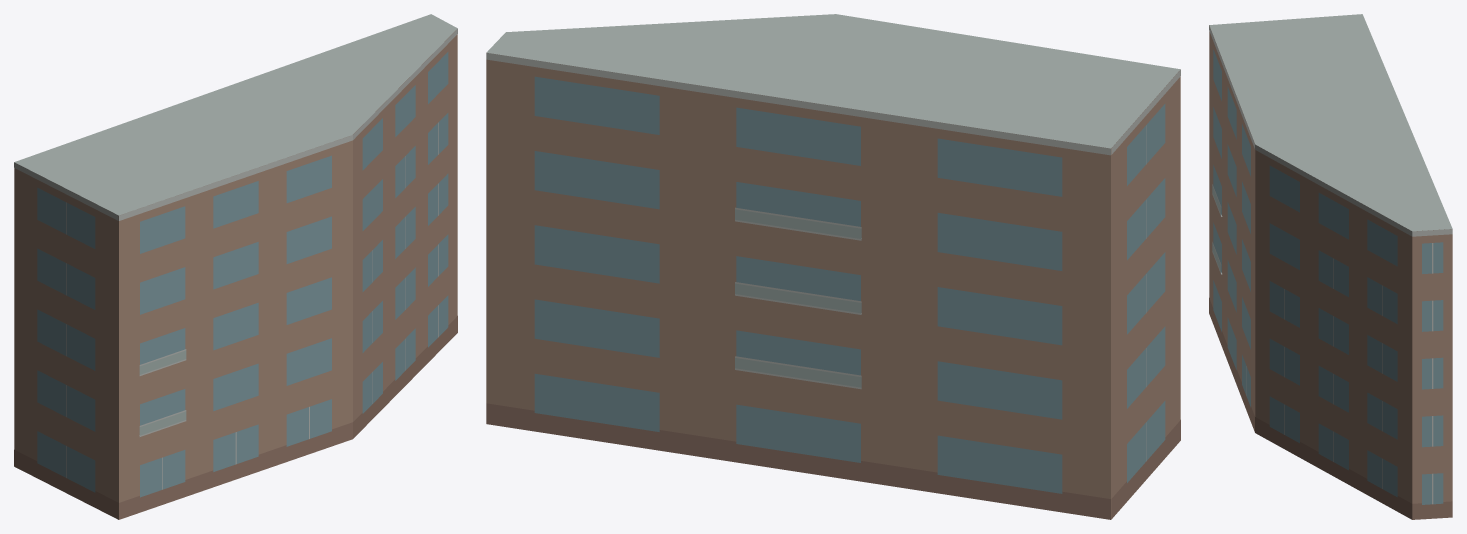
File: survey-upis-32585665.glb
3 renders of one model, left to right at view 1: azimuth 30°, elevation 25°; view 2: azimuth 150°, elevation 25°; view 3: azimuth 270°, elevation 25°, orthographic. The views are drawn at different scales.
Parts seen in each view (by area): view 1: survey-upis-32585665.tmp; view 2: survey-upis-32585665.tmp; view 3: survey-upis-32585665.tmp.
Boxes of the visible parts, x1,y1,x2,y2 form: survey-upis-32585665.tmp: (14, 14, 457, 519); survey-upis-32585665.tmp: (486, 14, 1180, 519); survey-upis-32585665.tmp: (1209, 14, 1452, 519).
Size of the model in its own units: 21.29 by 13.17 by 10.08.
